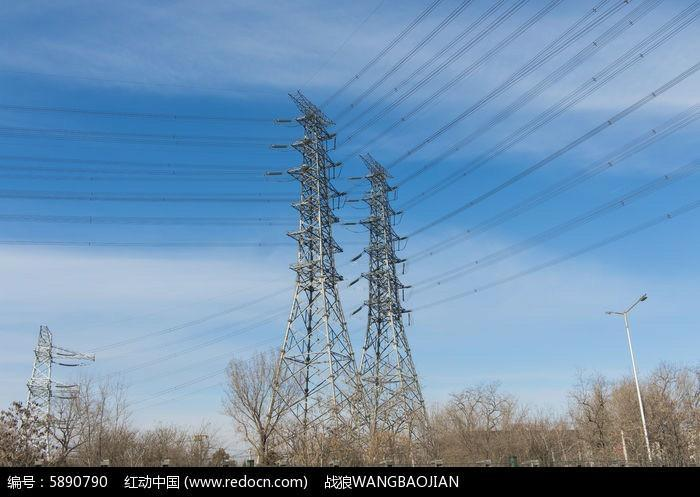power_tower: (261, 82, 361, 458), (356, 148, 429, 461), (17, 306, 112, 461)
